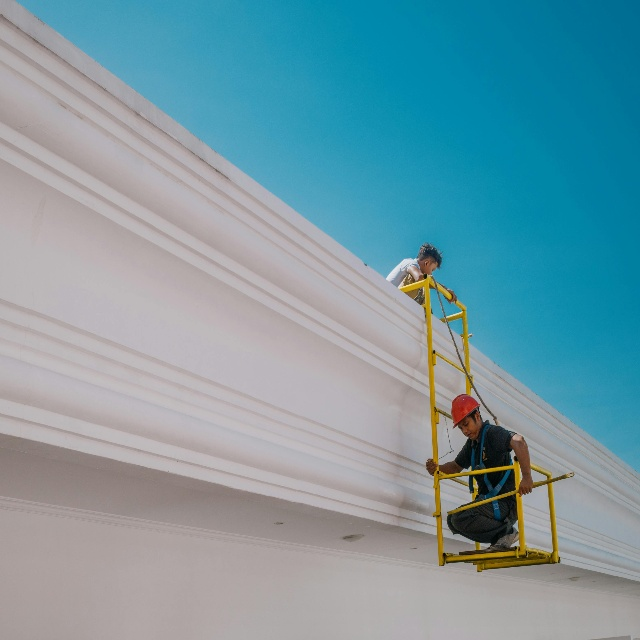Sin_guantes: (518, 476, 534, 497), (443, 287, 457, 305), (425, 457, 438, 476)
